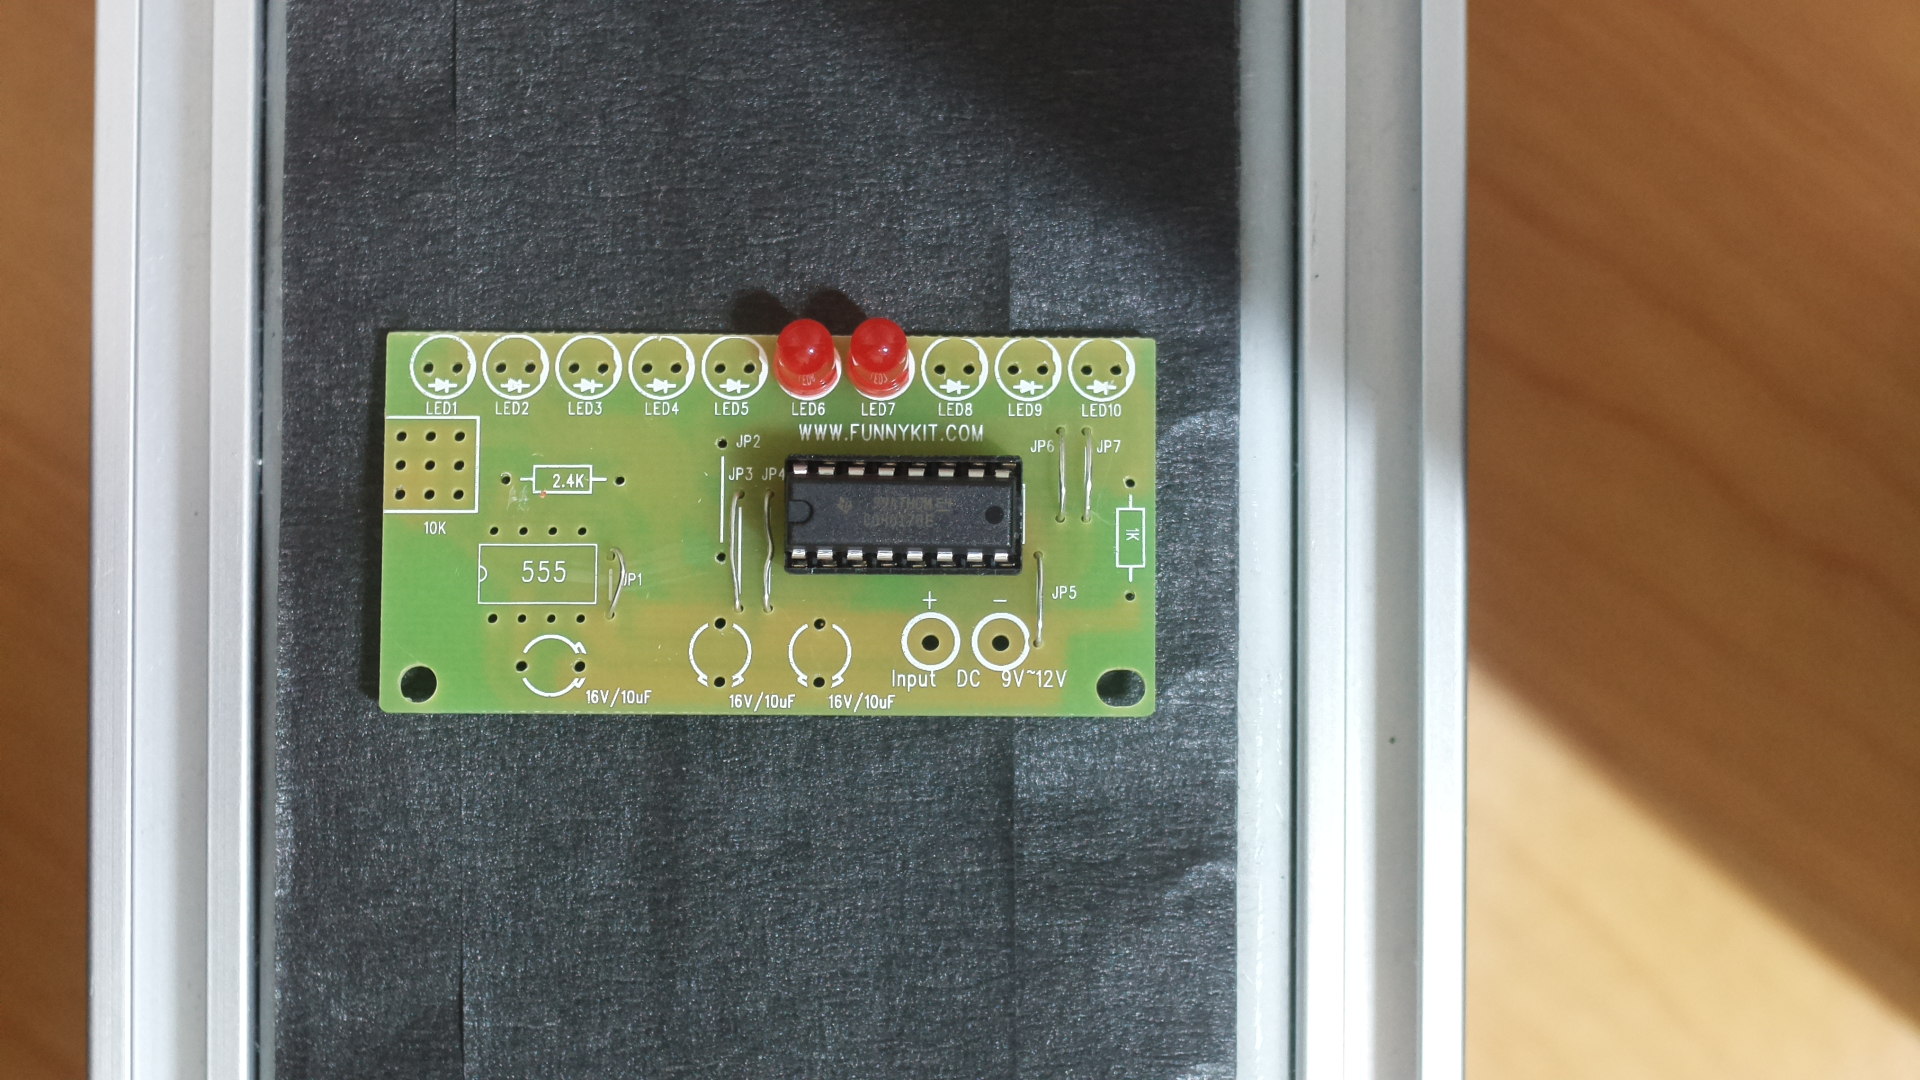B_Missing_part: (373, 314, 1185, 731)
